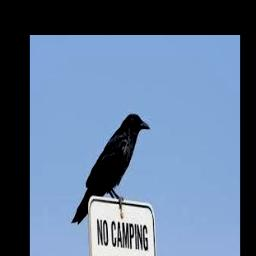Crow: (71, 113, 150, 224)
